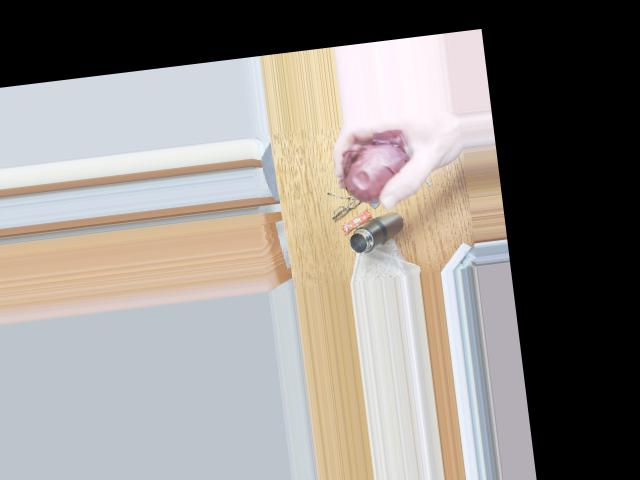onion: (340, 135, 414, 206)
